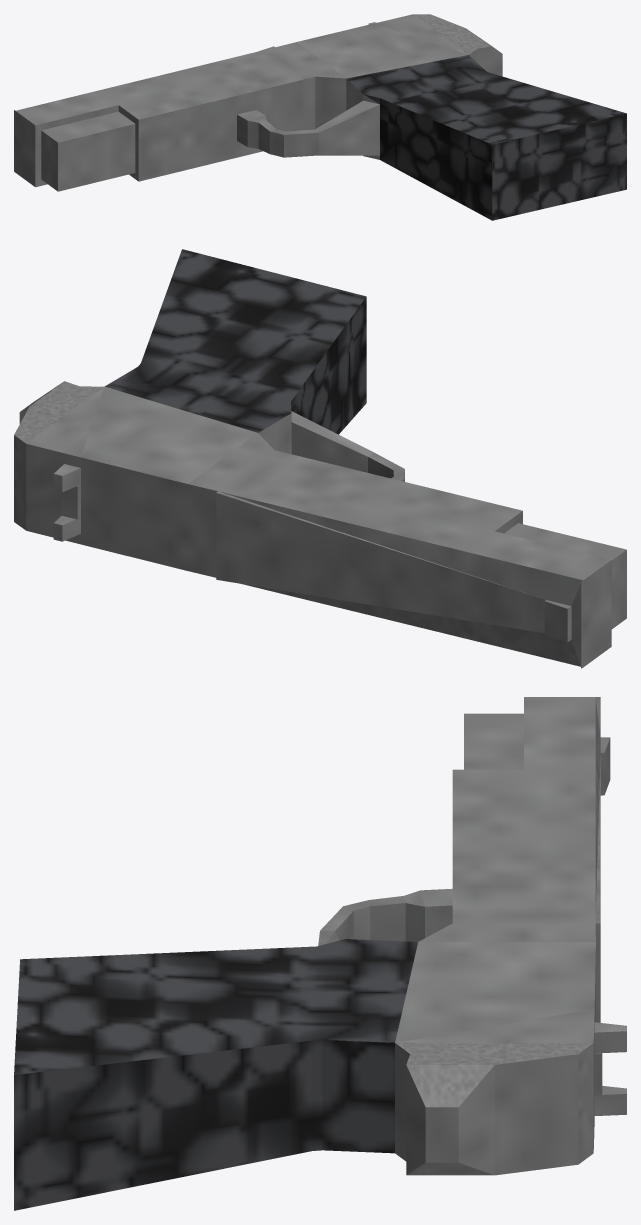
Rendered from Radom Vis.obj.
3 views of the same model, one above another, from view 1: azimuth 30°, elevation 25°; view 2: azimuth 150°, elevation 25°; view 3: azimuth 270°, elevation 25° (orthographic). The views are drawn at different scales.
Visible parts, largest first — view 1: Cube; view 2: Cube; view 3: Cube.
Boxes of the visible parts, x1,y1,x2,y2 form: Cube: [14, 14, 626, 220]; Cube: [14, 249, 626, 668]; Cube: [14, 697, 626, 1210].
Size of the model in its own units: 9.52 by 1.54 by 6.32.
